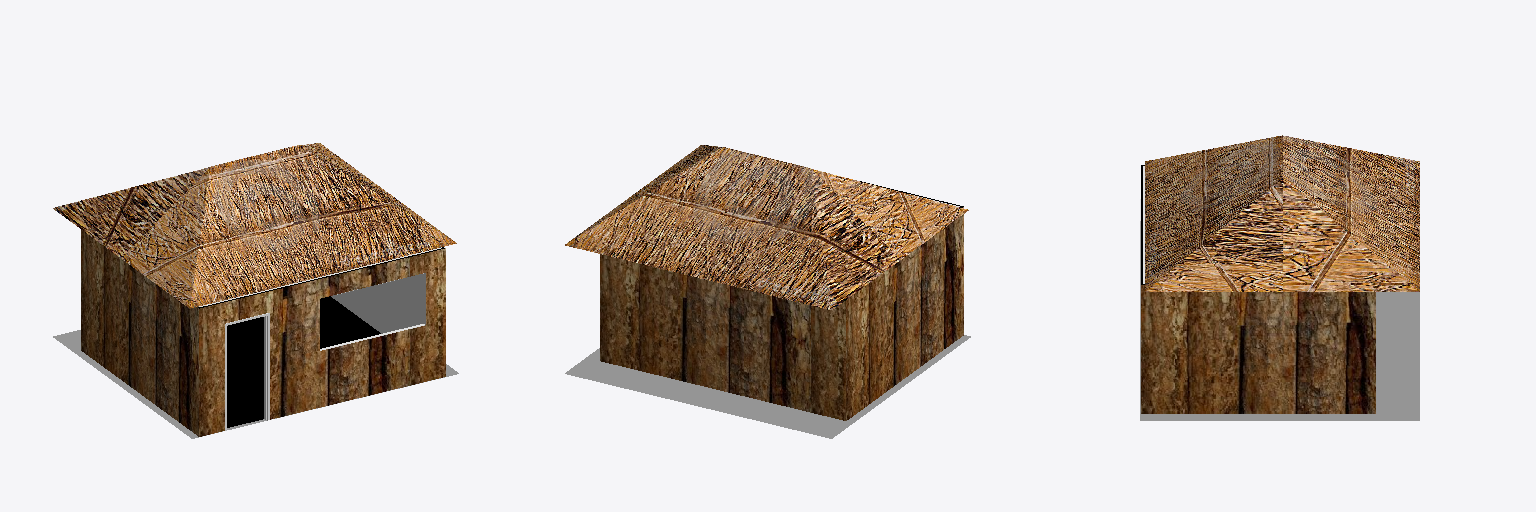
3 views of the same model, side by side, from view 1: azimuth 30°, elevation 25°; view 2: azimuth 150°, elevation 25°; view 3: azimuth 270°, elevation 25° (orthographic).
Visible parts, largest first — view 1: polySurface1; view 2: polySurface1; view 3: polySurface1.
Boxes of the visible parts, box(x1,y1,x2,y2) form: polySurface1: box(53, 143, 458, 438); polySurface1: box(565, 145, 970, 438); polySurface1: box(1140, 135, 1419, 420).
Bounding box in the file's own units: 25.61 × 18.14 × 23.19.
Materials: 6 (2 with a texture image).